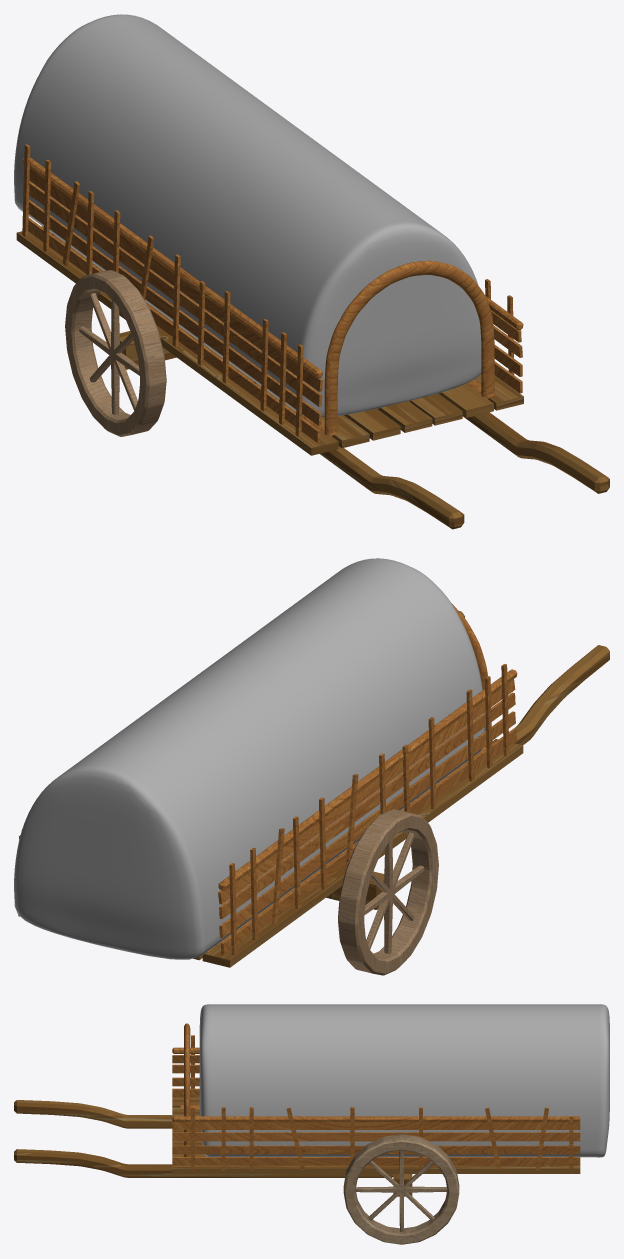
File: Cart_Textured.fbx
3 renders of one model, top to bottom at view 1: azimuth 30°, elevation 25°; view 2: azimuth 150°, elevation 25°; view 3: azimuth 270°, elevation 25°, orthographic. The views are drawn at different scales.
Visible parts, largest first — view 1: Cart_Cloth, RightSide, Cart_Main, RightWheel, Cart_Frame, LeftSide; view 2: Cart_Cloth, RightSide, RightWheel, Cart_Main, Cart_Frame; view 3: Cart_Cloth, LeftSide, Cart_Main, LeftWheel, RightSide, Cart_Frame.
Boxes of the visible parts, <box> form: Cart_Cloth: <box>14,14,481,417</box>; RightSide: <box>22,144,323,442</box>; Cart_Main: <box>16,226,609,529</box>; RightWheel: <box>65,270,166,436</box>; Cart_Frame: <box>49,231,496,437</box>; LeftSide: <box>485,279,523,393</box>; Cart_Cloth: <box>14,558,484,959</box>; RightSide: <box>218,664,517,955</box>; RightWheel: <box>338,809,438,975</box>; Cart_Main: <box>18,611,609,967</box>; Cart_Frame: <box>207,603,487,951</box>; Cart_Cloth: <box>199,1004,609,1157</box>; LeftSide: <box>172,1107,580,1170</box>; Cart_Main: <box>14,1097,580,1196</box>; LeftWheel: <box>343,1134,459,1244</box>; RightSide: <box>172,1035,199,1097</box>; Cart_Frame: <box>180,1023,199,1156</box>.
Bounding box in the file's own units: 2.22 × 2.04 × 5.82.
